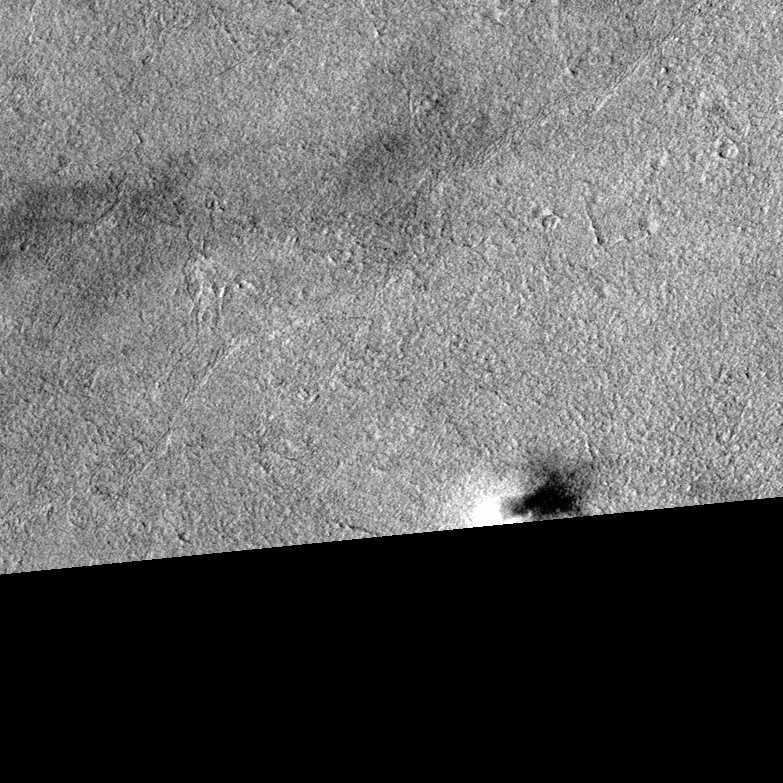dust_devil: (466, 463, 588, 529)
